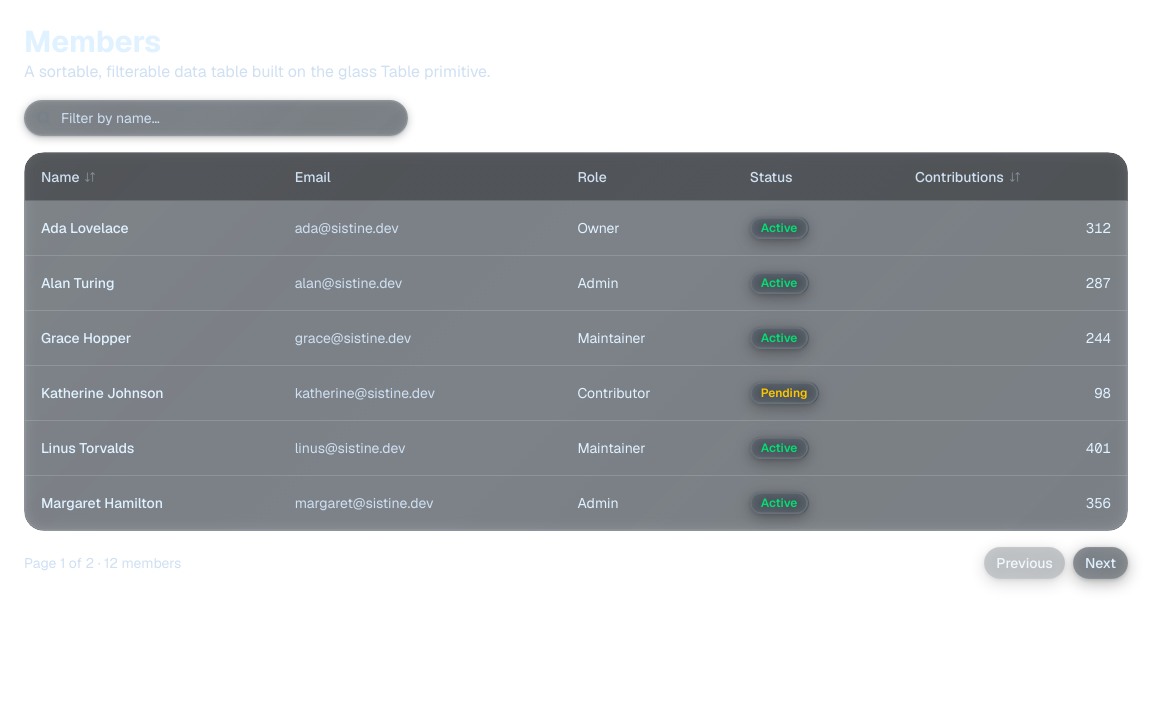
Test: DataTableBlock: react-table v9 features › paginates: 12 members across 2 pages of 6
expect the text "Page 1 of 2 · 12 members" is shown: met, box [24,553,181,573]
expect the text "Tim Berners-Lee" is not shown: met
What coordinates should you click on to do the following:
click the button "Next"
I would click on:
 (1100, 563)
Its box is [1073,547,1128,579].
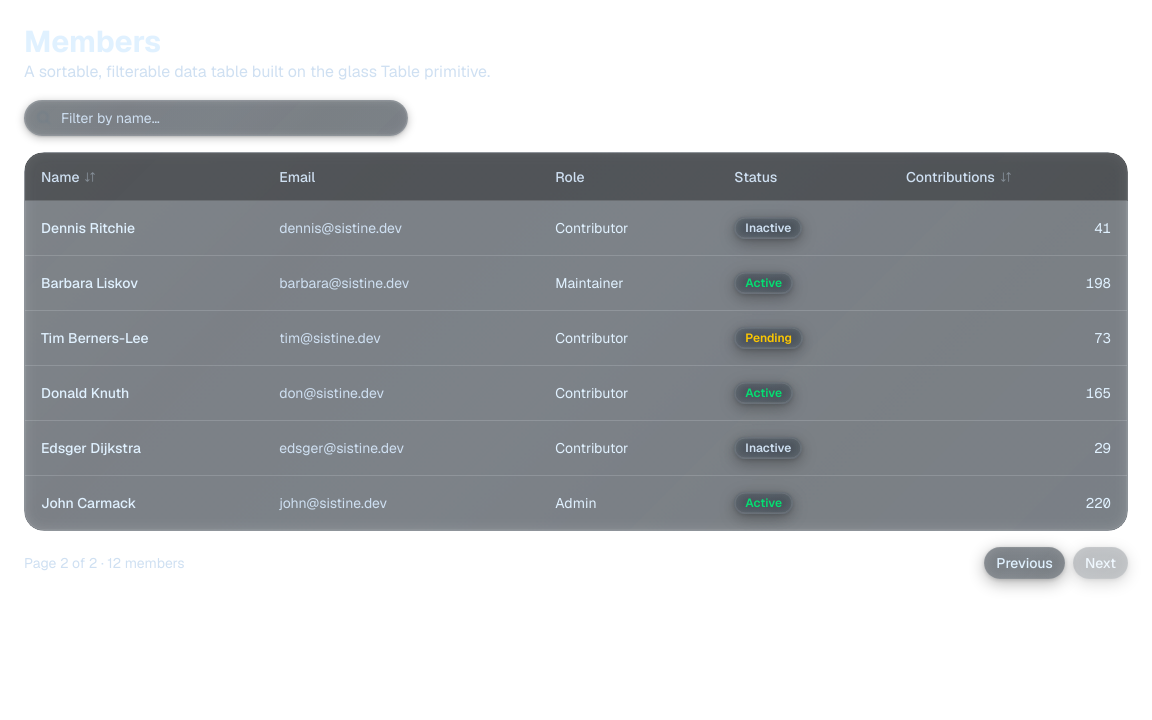
expect the text "Page 2 of 2 · 12 members" is shown: met, box [24,553,185,573]
expect the text "Tim Berners-Lee" is shown: met, box [41,329,149,347]
expect the button "Next" is disabled: met, box [1073,547,1128,579]
